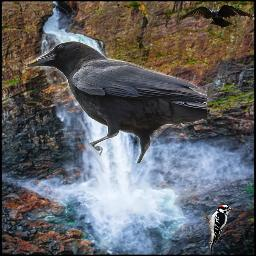Crow: (26, 41, 207, 163), (175, 4, 255, 31)
Woodpecker: (202, 204, 233, 251)
